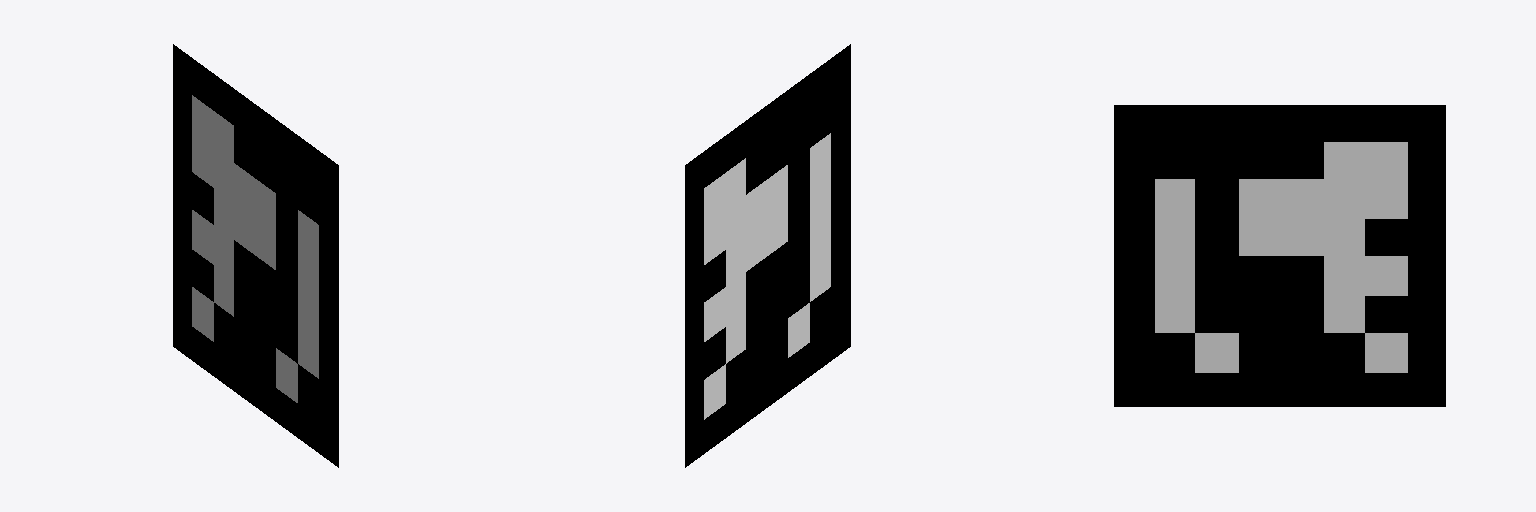
3 views of the same model, side by side, from view 1: azimuth 30°, elevation 25°; view 2: azimuth 150°, elevation 25°; view 3: azimuth 270°, elevation 25° (orthographic).
Parts seen in each view (by area): view 1: markers; view 2: markers; view 3: markers.
Part boxes in pixels (x1,y1,x2,y2): markers: (173,44,338,467); markers: (685,44,850,467); markers: (1114,105,1445,406).
Bounding box in the file's own units: 0 × 1 × 0.9939.
1 materials, 1 textured.